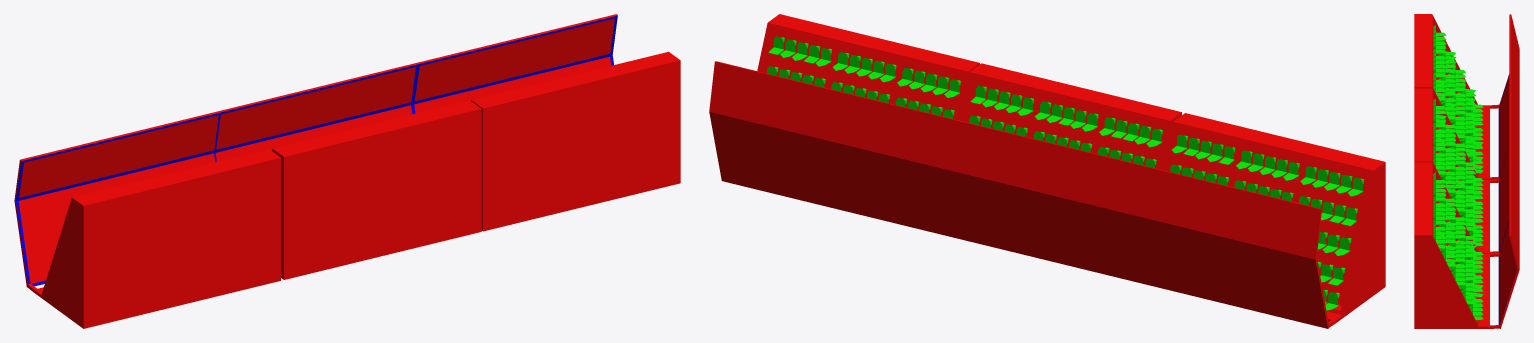
Rendered from Stadium_3 1.FBX.
The picture shows the model from 3 angles, left to right: view 1: azimuth 30°, elevation 25°; view 2: azimuth 150°, elevation 25°; view 3: azimuth 270°, elevation 25°; orthographic projection. The views are drawn at different scales.
Visible parts, largest first — view 1: Stadium_3_LOD0; view 2: Stadium_3_LOD0; view 3: Stadium_3_LOD0.
Boxes of the visible parts, box(x1,y1,x2,y2) form: Stadium_3_LOD0: box(14, 14, 680, 328); Stadium_3_LOD0: box(709, 14, 1385, 328); Stadium_3_LOD0: box(1414, 14, 1519, 328).
Bounding box in the file's own units: 4512 × 906 × 889.
